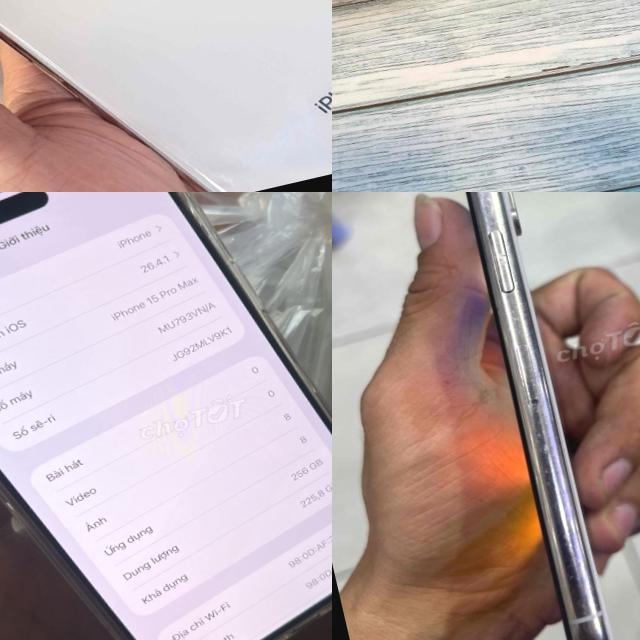scratch: (466, 192, 610, 640)
